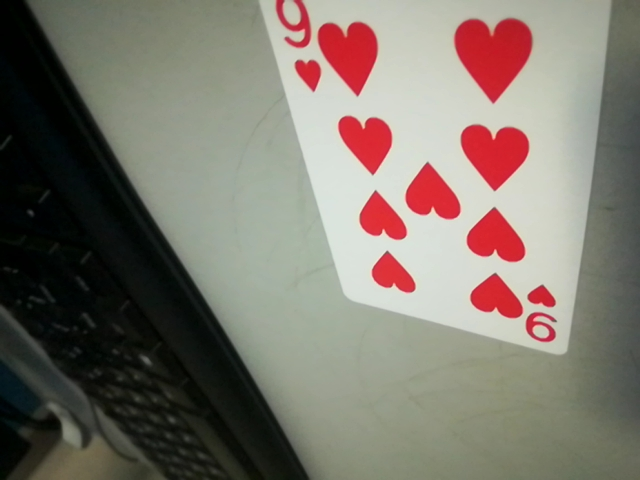hx 9: (518, 282, 572, 349)
